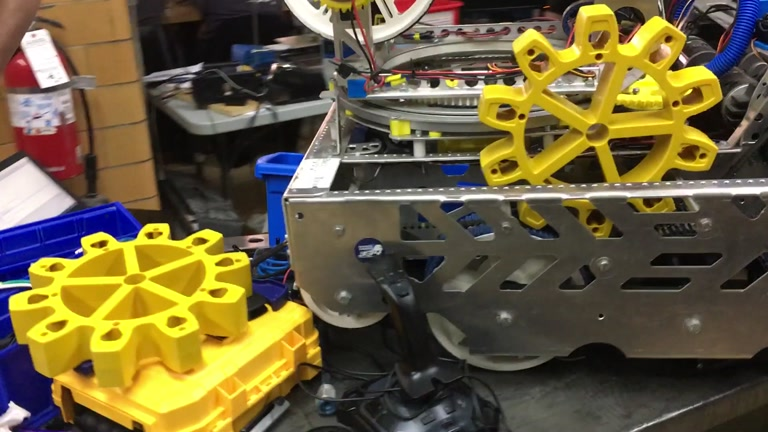gear: (477, 4, 722, 240), (9, 222, 252, 388)
